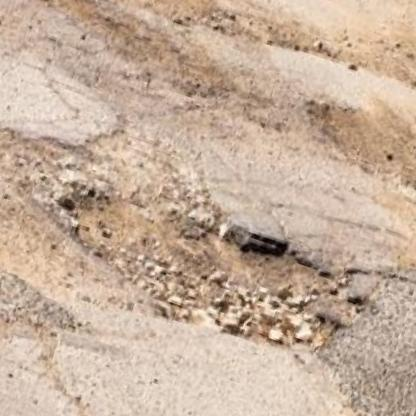pothole: (33, 148, 378, 374), (0, 0, 232, 65), (301, 96, 416, 202)
